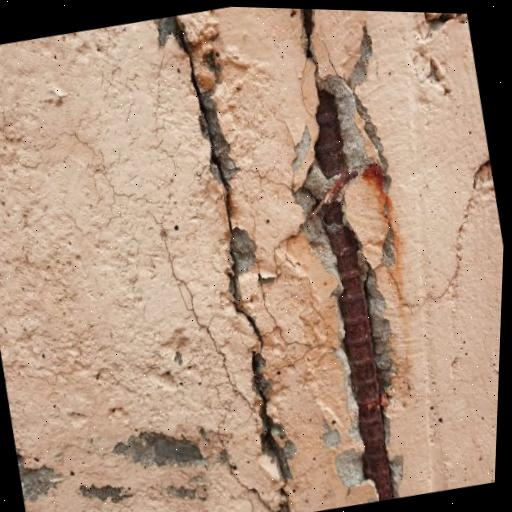exposed_rebar: (323, 199, 393, 501), (314, 89, 346, 178)
